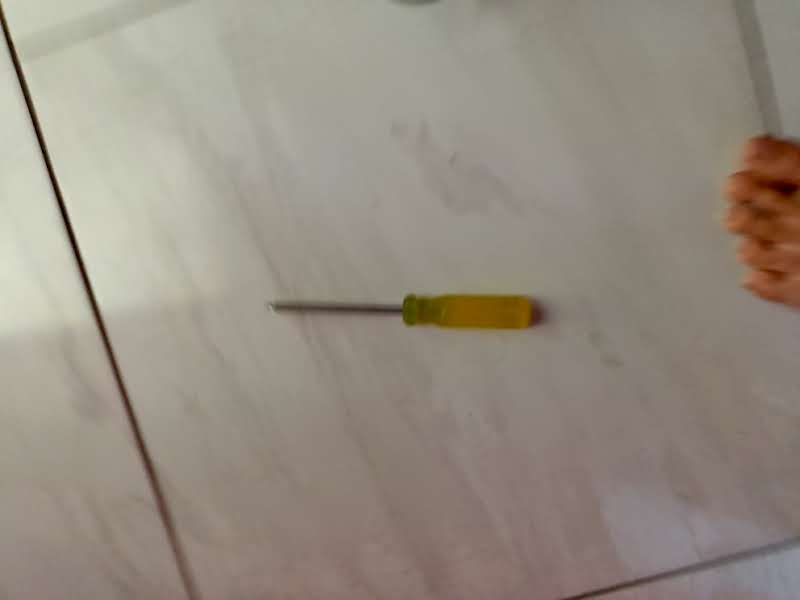Destornillador: (268, 294, 534, 328)
